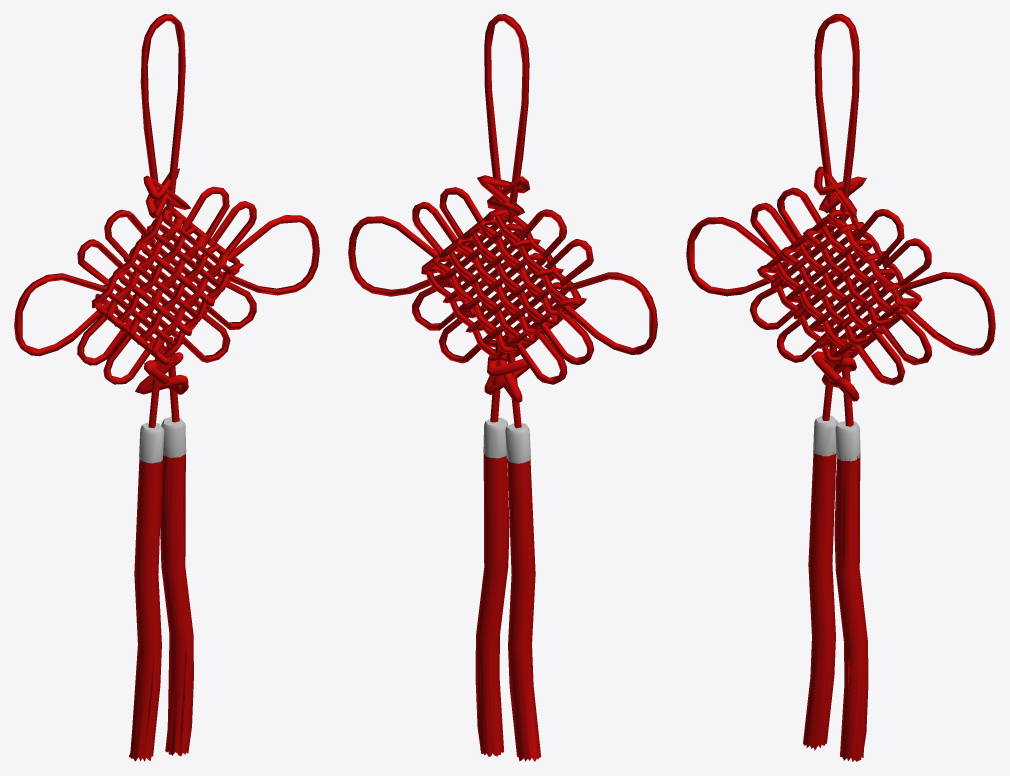
File: Symbol.FBX
3 views of the same model, side by side, from view 1: azimuth 30°, elevation 25°; view 2: azimuth 150°, elevation 25°; view 3: azimuth 330°, elevation 25° (orthographic).
Visible parts, largest first — view 1: symbol; view 2: symbol; view 3: symbol.
Boxes of the visible parts, <box> form: symbol: <box>14,14,319,761</box>; symbol: <box>348,14,657,761</box>; symbol: <box>686,14,995,761</box>.
Bounding box in the file's own units: 21.64 × 50 × 1.9.
